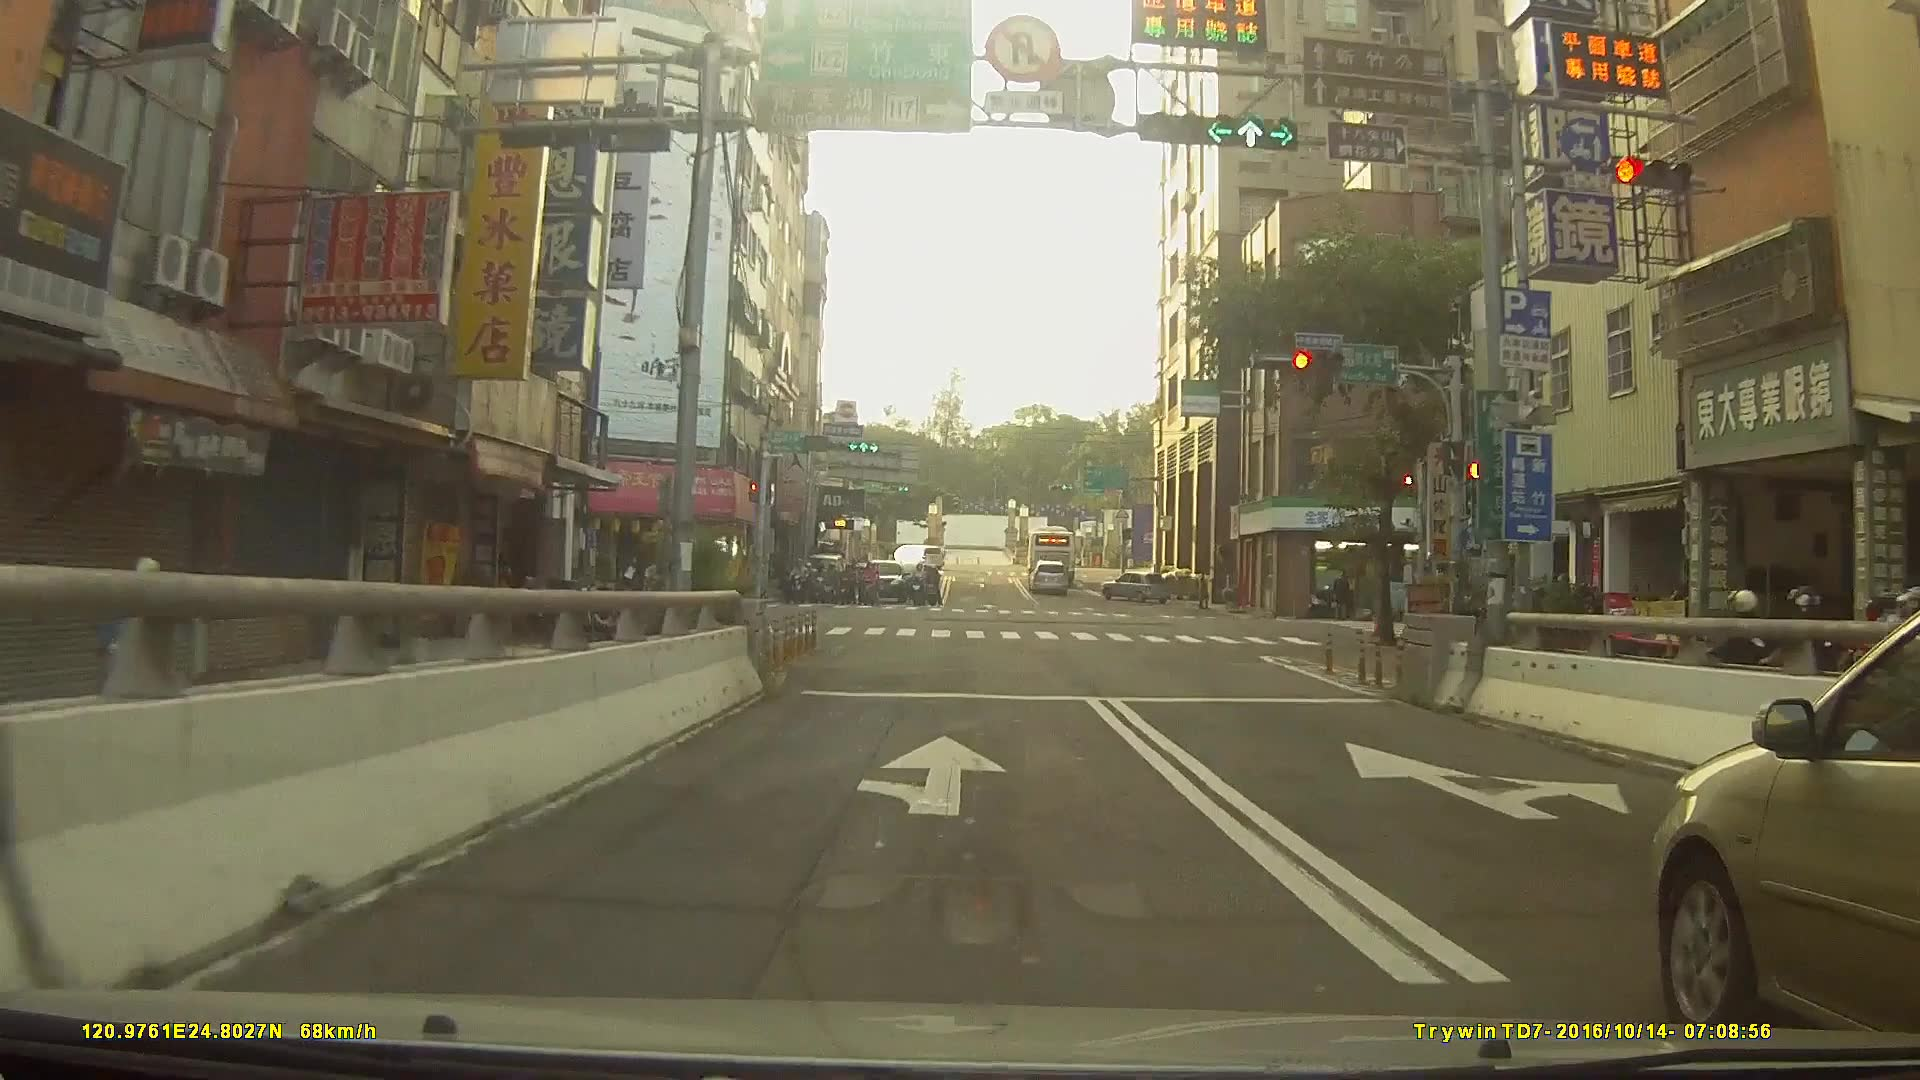pedestrian: (1331, 570, 1353, 624), (1195, 590, 1215, 611)
rider: (99, 555, 193, 760)
vehicle: (1652, 603, 1920, 1038), (1100, 570, 1173, 605), (1024, 530, 1078, 579), (858, 561, 906, 606), (1029, 562, 1071, 598), (891, 543, 944, 570)
